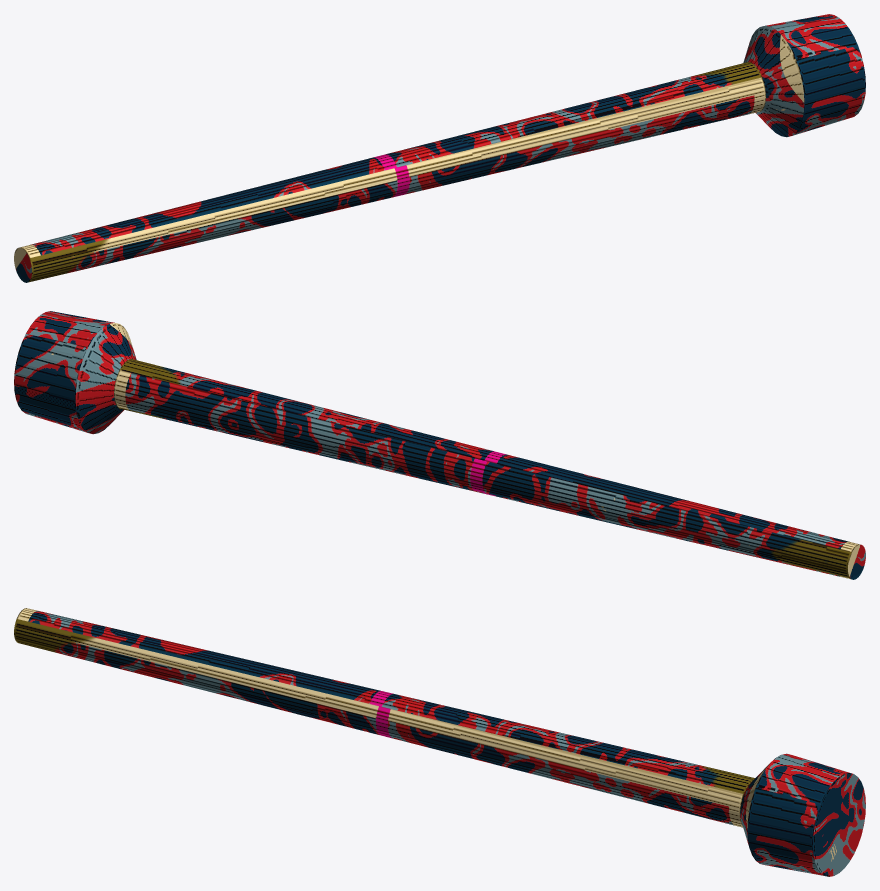
Rendered from T34barrel.obj.
3 views of the same model, one above another, from view 1: azimuth 30°, elevation 25°; view 2: azimuth 150°, elevation 25°; view 3: azimuth 330°, elevation 25° (orthographic).
Visible parts, largest first — view 1: Cylinder_Cylinder.002; view 2: Cylinder_Cylinder.002; view 3: Cylinder_Cylinder.002.
Part boxes in pixels (box(x1,y1,x2,y2)): Cylinder_Cylinder.002: box(14, 14, 865, 282); Cylinder_Cylinder.002: box(14, 311, 865, 579); Cylinder_Cylinder.002: box(14, 608, 865, 876).
Bounding box in the file's own units: 4.95 × 0.5985 × 0.5985.
